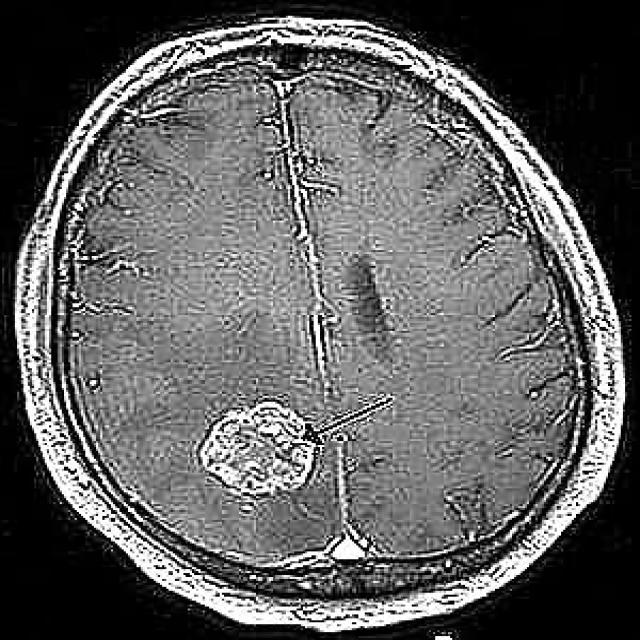Tumor-Cell: (152, 379, 343, 510)
